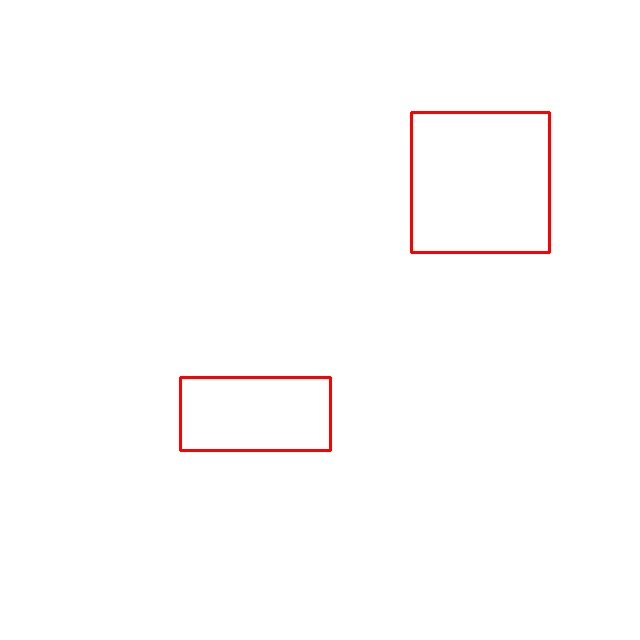weapon: (411, 113, 549, 253), (181, 377, 330, 450)
